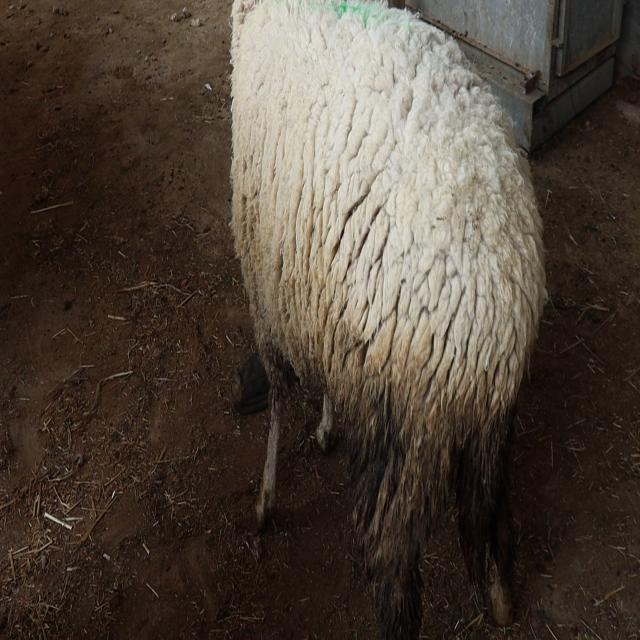Score_5: (231, 0, 546, 638)
